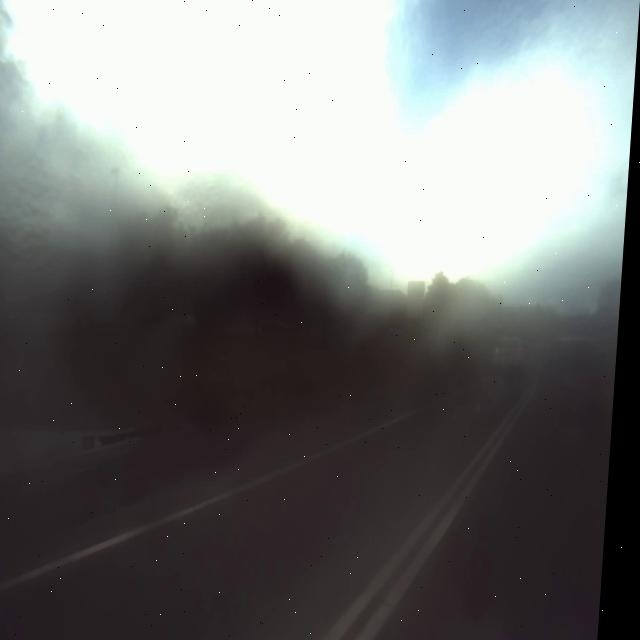car: (495, 317, 540, 381)
